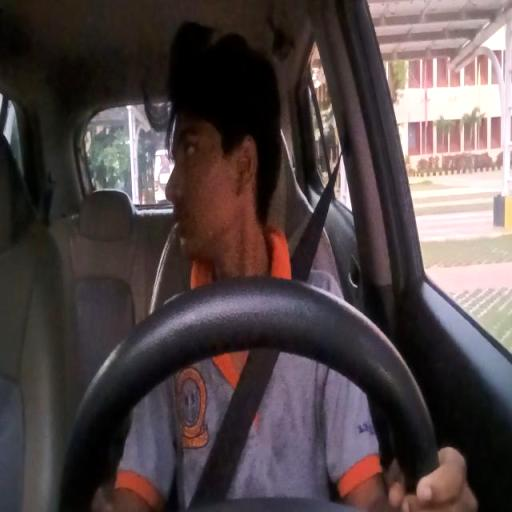Reaching_behind: (126, 21, 354, 492)
